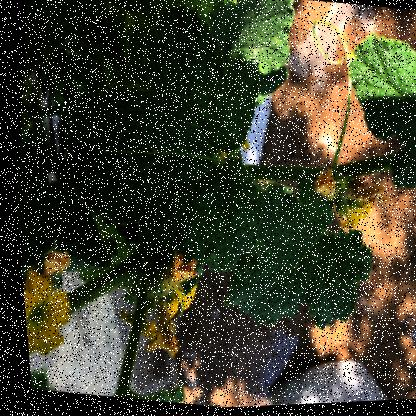Normal: (30, 0, 297, 290), (209, 176, 381, 329), (321, 28, 415, 206)
